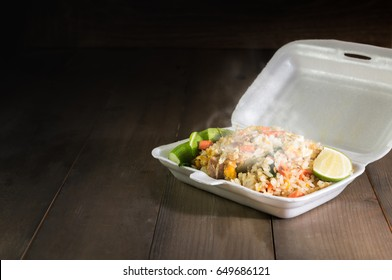Foam Box: (149, 33, 392, 220)
